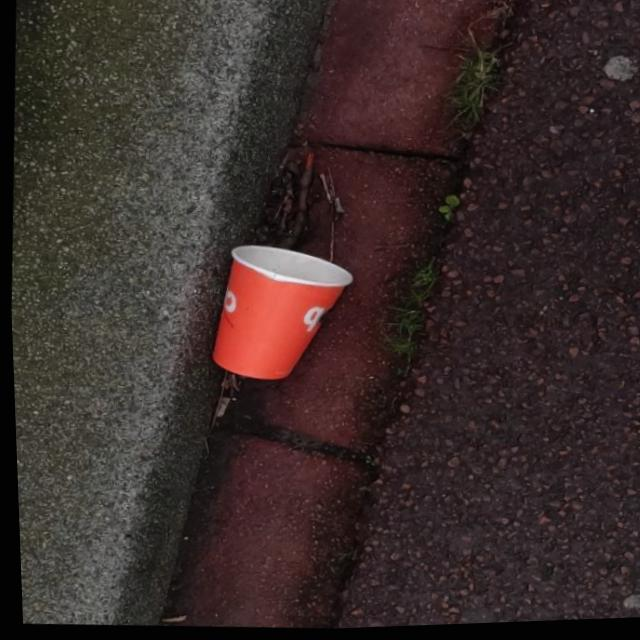Cup: (192, 233, 359, 394)
